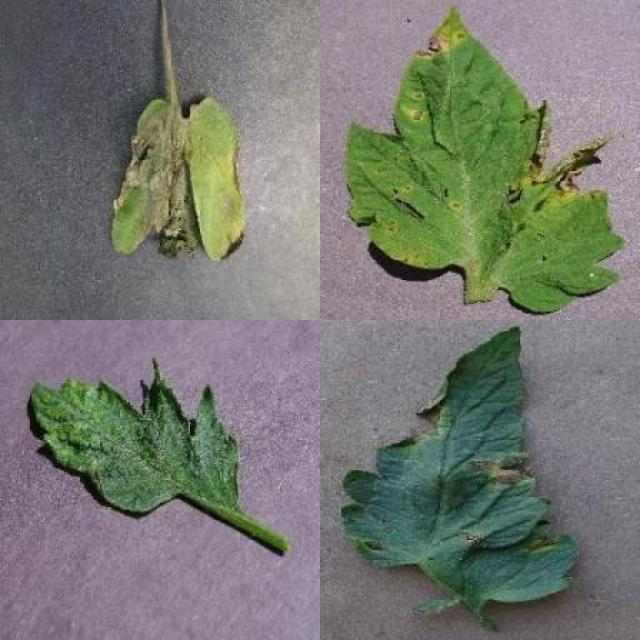Early Blight: (346, 324, 578, 612)
Late Blight: (112, 97, 248, 264)
Mosaic Virus: (27, 355, 242, 518)
Septoria: (340, 7, 627, 314)
